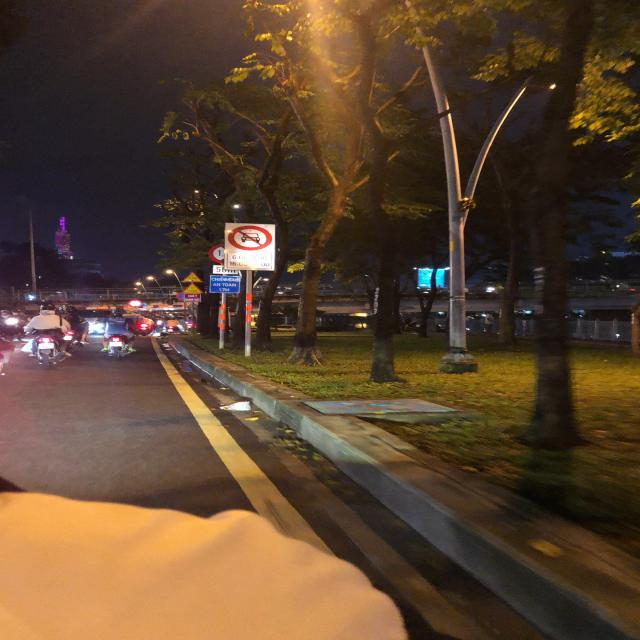Bien bao cam xe oto: (225, 225, 275, 251)
